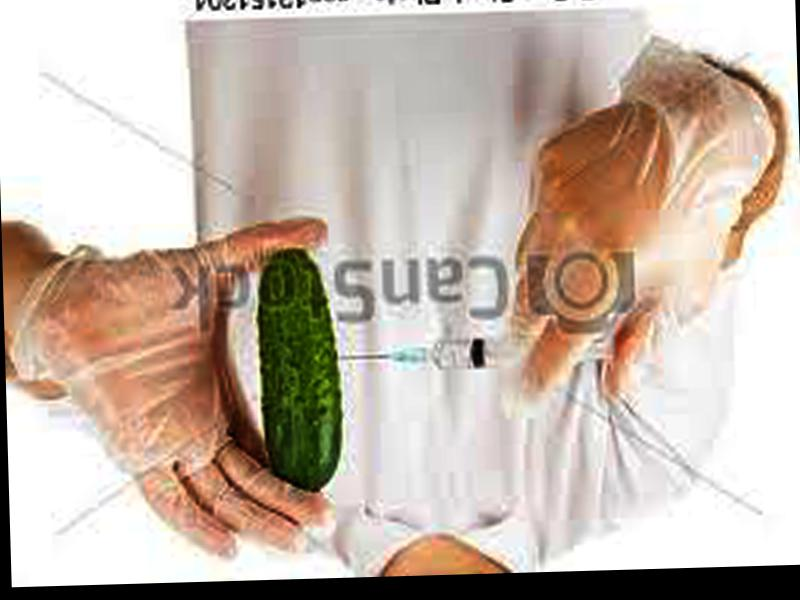Cucumber: (253, 243, 340, 493)
